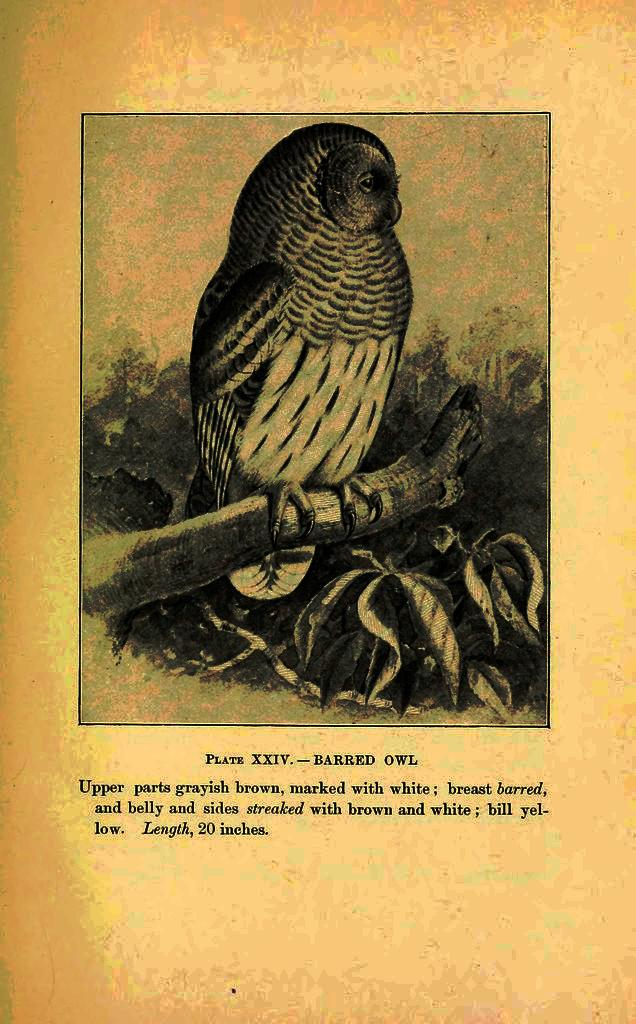Owl: (176, 122, 410, 606)
